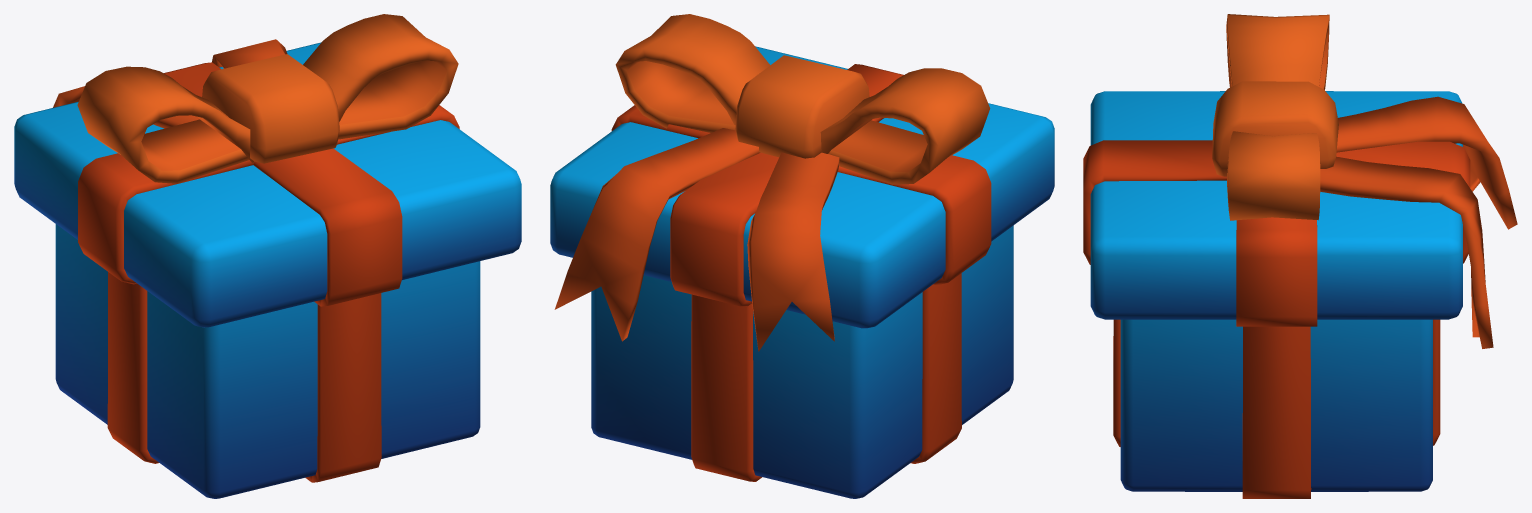
The model's file is Gift_Pack_V3_0.fbx.
The picture shows the model from 3 angles, left to right: view 1: azimuth 30°, elevation 25°; view 2: azimuth 150°, elevation 25°; view 3: azimuth 270°, elevation 25°; orthographic projection. The views are drawn at different scales.
Parts seen in each view (by area): view 1: Gift_Pack_V3_0; view 2: Gift_Pack_V3_0; view 3: Gift_Pack_V3_0.
Boxes of the visible parts, x1,y1,x2,y2 form: Gift_Pack_V3_0: (14, 14, 521, 498); Gift_Pack_V3_0: (550, 14, 1054, 498); Gift_Pack_V3_0: (1083, 14, 1517, 498).
Size of the model in its own units: 0.3723 by 0.3801 by 0.4178.
